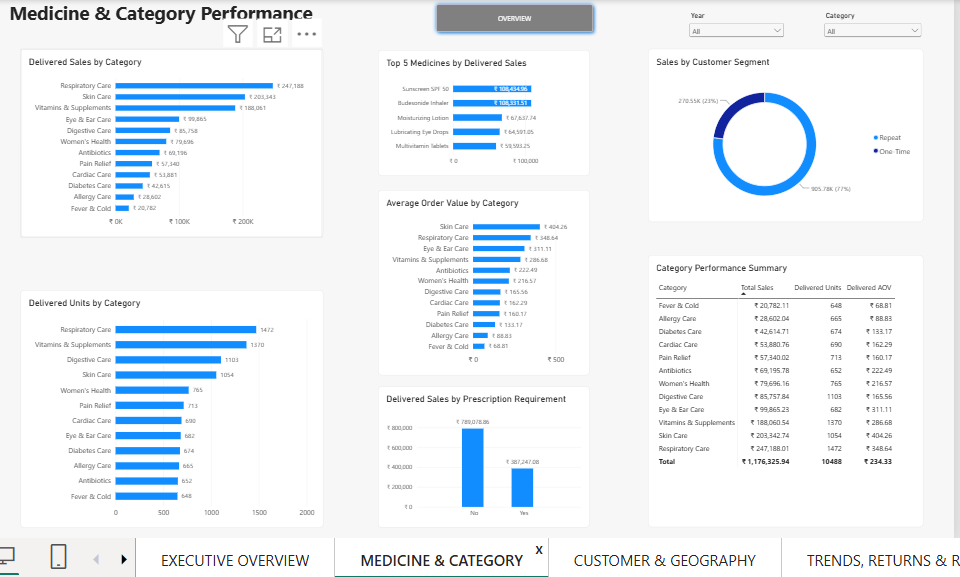

The page's visual inventory and layout, read from the dashboard file:
{"tool":"powerbi","page":{"name":"MEDICINE & CATEGORY","canvas":[1920,1080],"ordinal":1},"visuals":[{"type":"textbox","box":[22.5,0,628.8,72.5],"z":0},{"type":"clusteredBarChart","title":"Delivered Sales by Category","fields":{"Category":["apollo_healthcare.Category"],"Y":["Date_Table.Total Sales"]},"box":[44,99.1,607.7,378.7],"z":1000},{"type":"clusteredBarChart","title":"Delivered Units by Category","fields":{"Category":["apollo_healthcare.Category"],"Y":["Date_Table.Delivered Units"]},"box":[44,581.3,607.7,477.8],"z":2000},{"type":"clusteredBarChart","title":"Top 5 Medicines by Delivered Sales","fields":{"Category":["apollo_healthcare.Medicine_Name"],"Y":["Date_Table.Total Sales"]},"box":[762.5,100,425,253.1],"z":3000},{"type":"clusteredColumnChart","title":"Delivered Sales by Prescription Requirement","fields":{"Category":["apollo_healthcare.Prescription_Required"],"Y":["Date_Table.Total Sales"]},"box":[761.8,775,425,284],"z":4000},{"type":"clusteredBarChart","title":"Average Order Value by Category","fields":{"Category":["apollo_healthcare.Category"],"Y":["Date_Table.Delivered AOV"]},"box":[762.5,381.2,425,371.9],"z":5000},{"type":"pivotTable","title":"Category Performance Summary","fields":{"Rows":["apollo_healthcare.Category"],"Values":["Date_Table.Total Sales","Date_Table.Delivered Units","Date_Table.Delivered AOV"]},"box":[1305.7,513,552.7,546.1],"z":6000},{"type":"donutChart","title":"Sales by Customer Segment","fields":{"Category":["Customer_Segment.Segment"],"Y":["Customer_Segment.Customer Segment Sales"]},"box":[1305.7,99.1,552.7,347.9],"z":7000},{"type":"slicer","fields":{"Values":["apollo_healthcare.Category"]},"box":[1653.6,22,204.8,231.2],"z":8000},{"type":"slicer","fields":{"Values":["Date_Table.Year"]},"box":[1382.8,22,200,253],"z":9000},{"type":"actionButton","box":[871.9,0,332.5,72.7],"z":10000}]}

Visuals, with their boxes on the page's 1920x1080 design canvas (x1, y1, x2, y2). These are canvas units, not pixel positions in the 960x577 screenshot, which may show the page scaled, cropped or inside an application window:
textbox: region(22, 0, 651, 72)
"Delivered Sales by Category" clusteredBarChart: region(44, 99, 652, 478)
"Delivered Units by Category" clusteredBarChart: region(44, 581, 652, 1059)
"Top 5 Medicines by Delivered Sales" clusteredBarChart: region(762, 100, 1188, 353)
"Delivered Sales by Prescription Requirement" clusteredColumnChart: region(762, 775, 1187, 1059)
"Average Order Value by Category" clusteredBarChart: region(762, 381, 1188, 753)
"Category Performance Summary" pivotTable: region(1306, 513, 1858, 1059)
"Sales by Customer Segment" donutChart: region(1306, 99, 1858, 447)
slicer - apollo_healthcare.Category: region(1654, 22, 1858, 253)
slicer - Date_Table.Year: region(1383, 22, 1583, 275)
actionButton: region(872, 0, 1204, 73)
